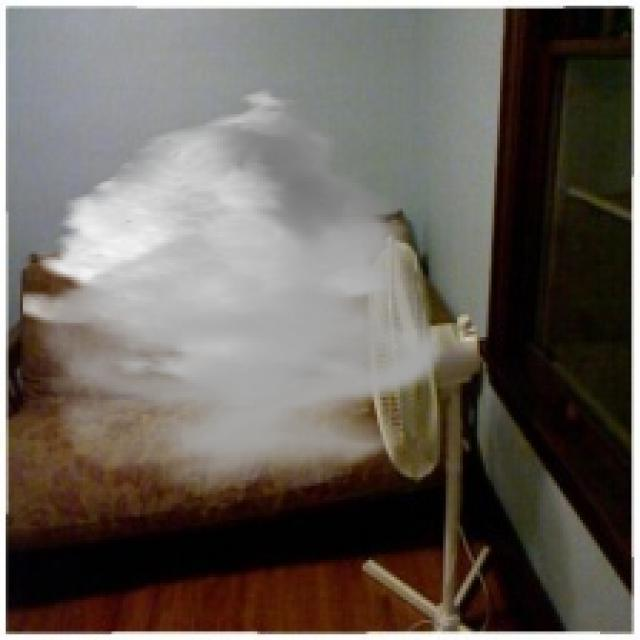Smoke: (22, 86, 448, 494)
